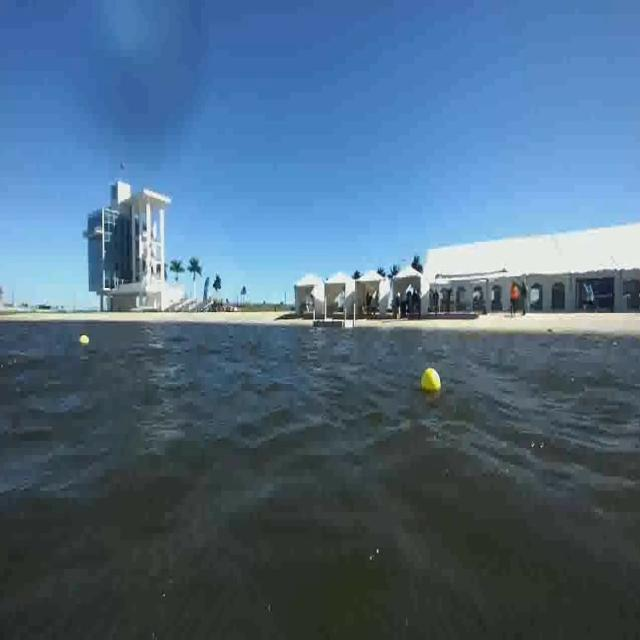yellow-buoy: (421, 366, 442, 394), (79, 335, 90, 349)
